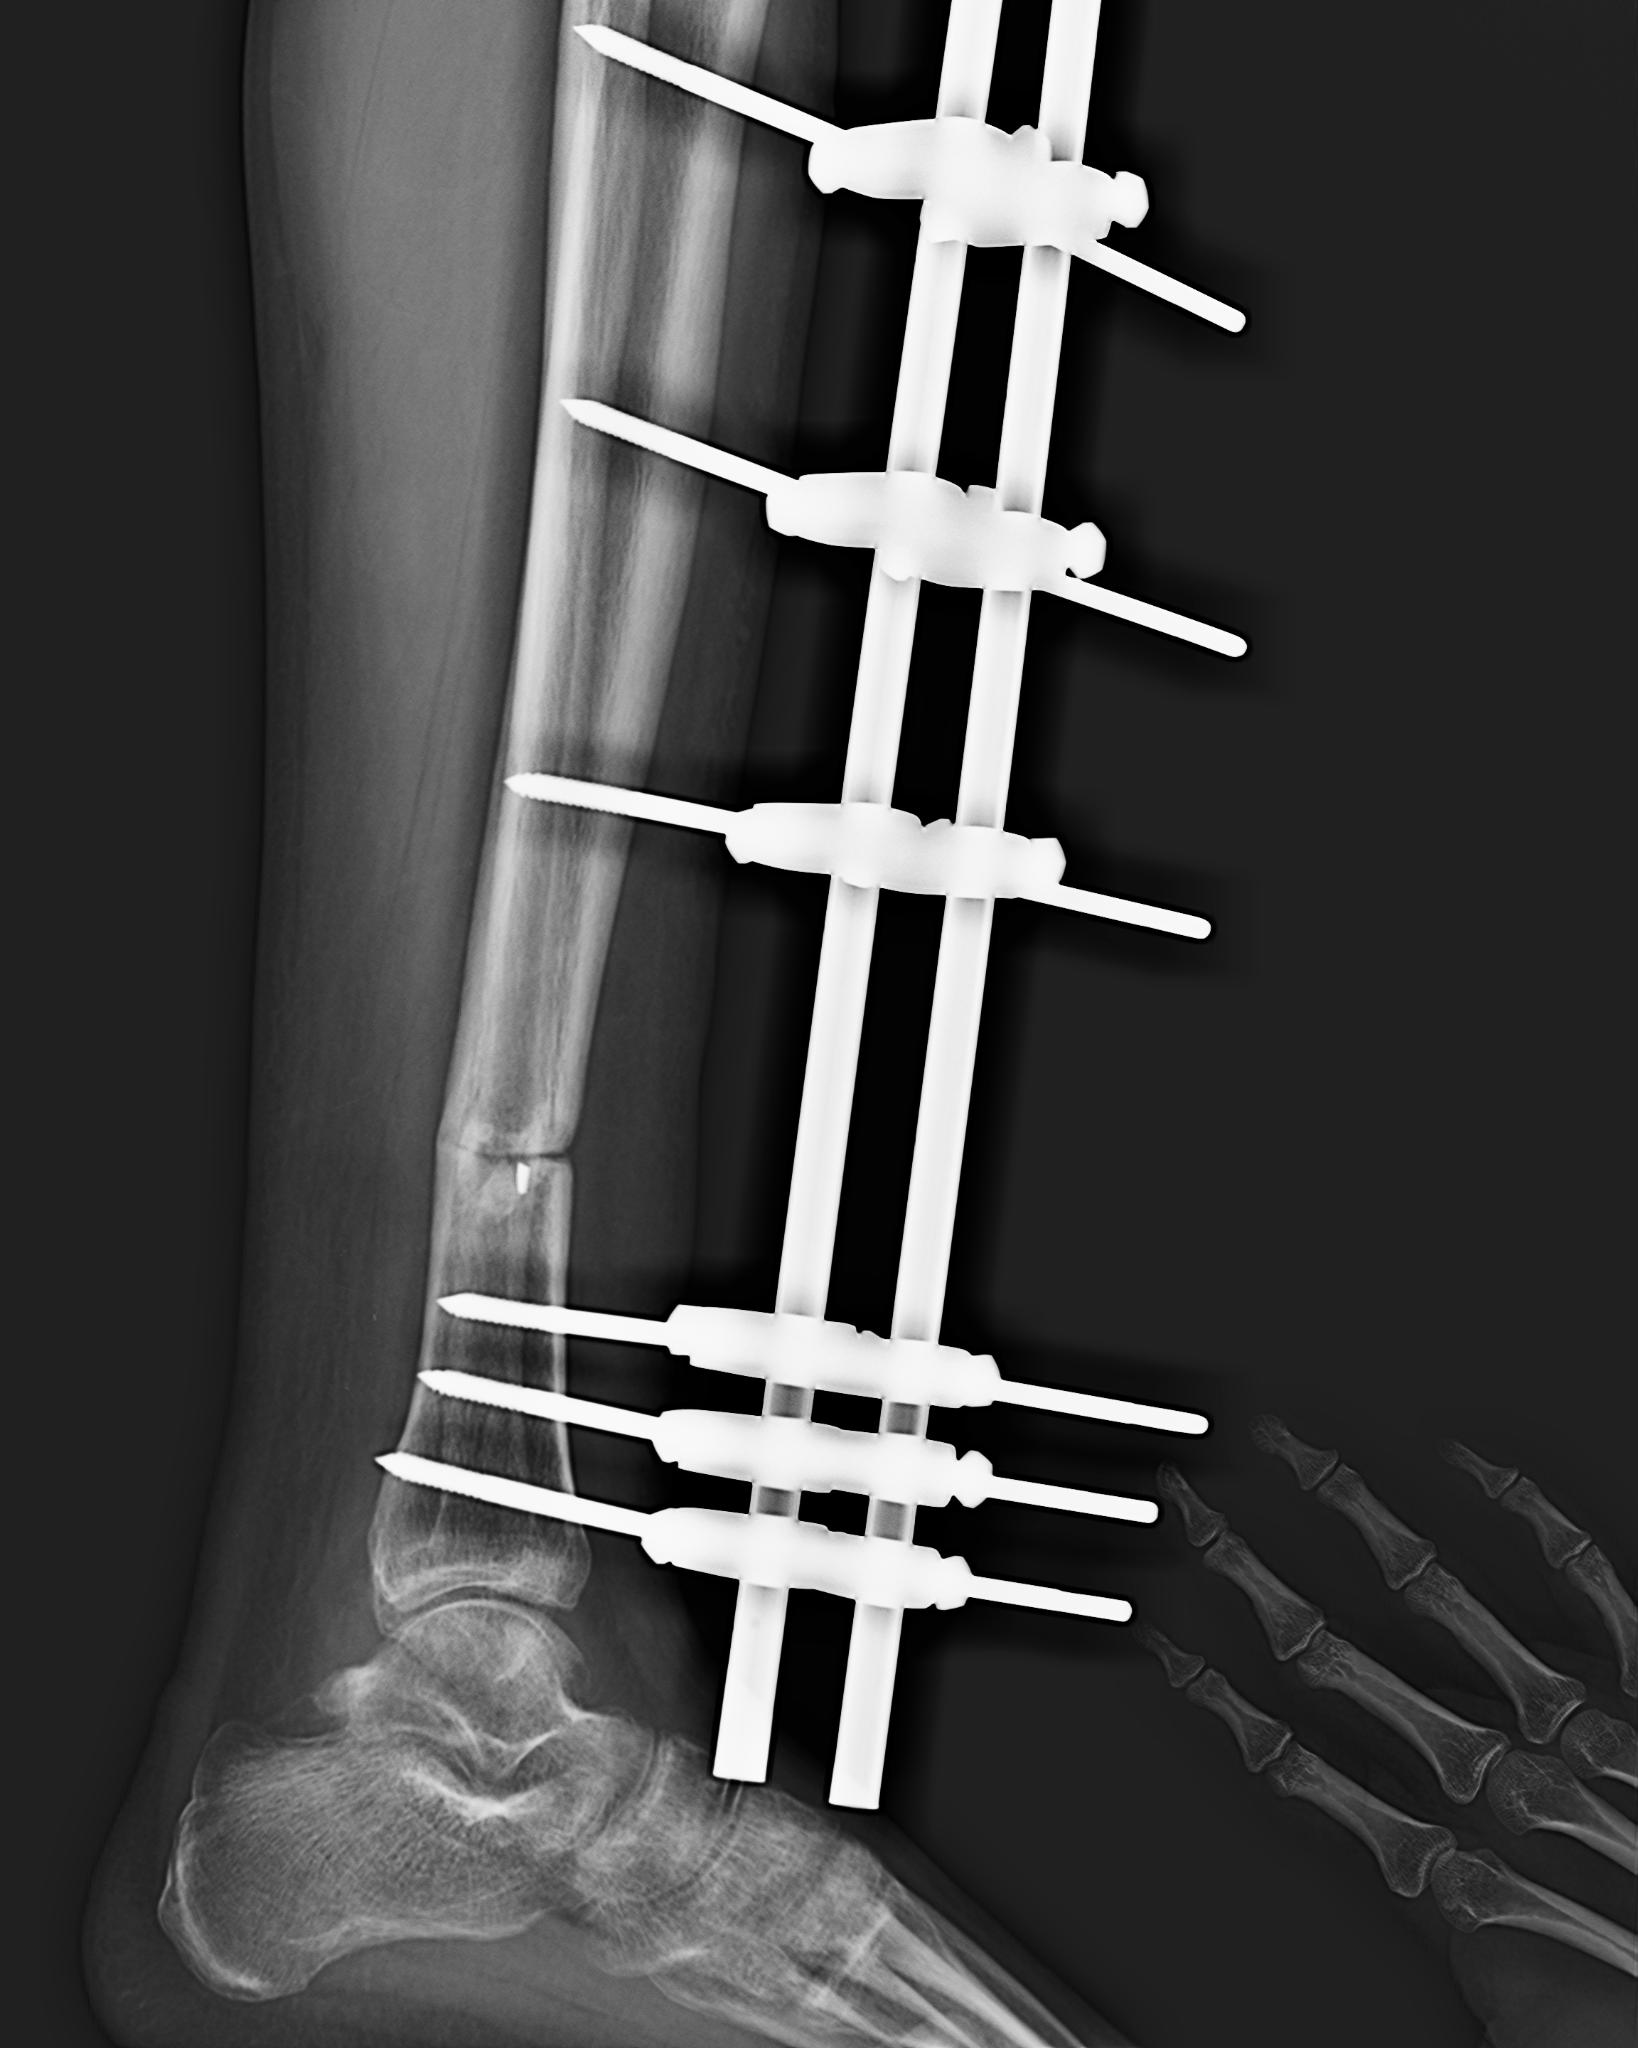fractured: (430, 1057, 582, 1222)
